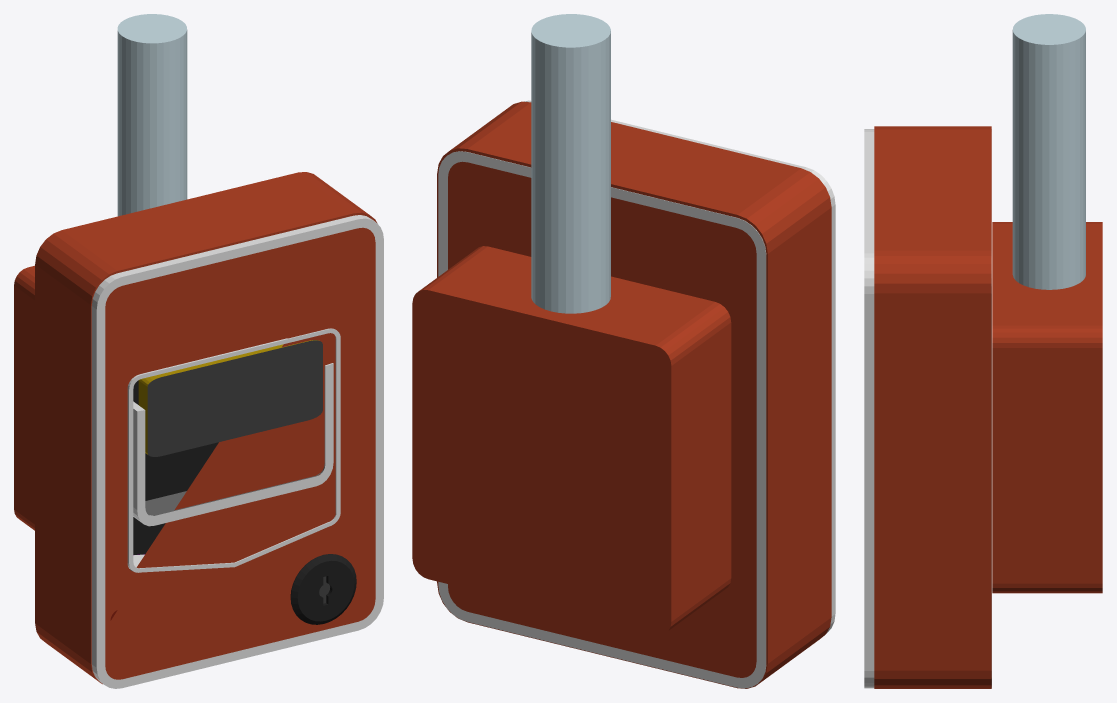
Rendered from IntDeIncendiosParaUnity.fbx.
3 views of the same model, side by side, from view 1: azimuth 30°, elevation 25°; view 2: azimuth 150°, elevation 25°; view 3: azimuth 270°, elevation 25° (orthographic). The views are drawn at different scales.
Visible parts, largest first — view 1: IntDeIncendios_forma, IntDeIncendios_palanca; view 2: IntDeIncendios_forma; view 3: IntDeIncendios_forma.
Part boxes in pixels (x1,y1,x2,y2): IntDeIncendios_forma: (14, 14, 383, 688); IntDeIncendios_palanca: (133, 363, 333, 526); IntDeIncendios_forma: (412, 14, 835, 688); IntDeIncendios_forma: (864, 14, 1102, 688).
Size of the model in its own units: 9.58 by 17.92 by 6.49.
1 material, 1 textured.
